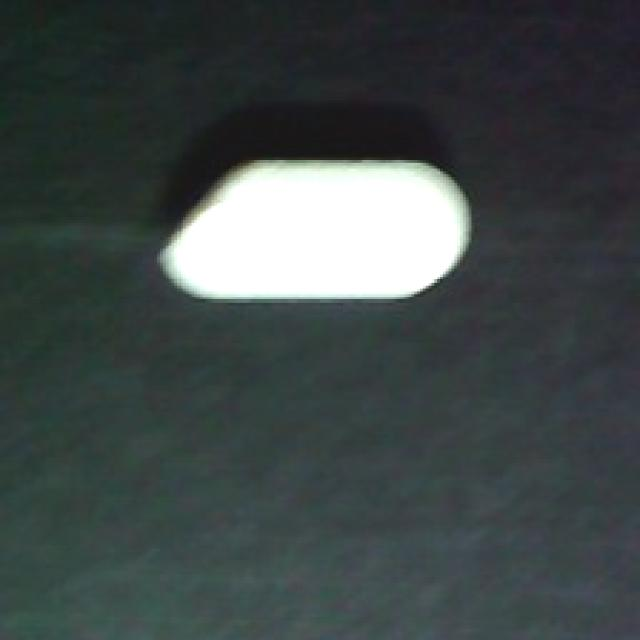defected: (154, 154, 477, 311)
